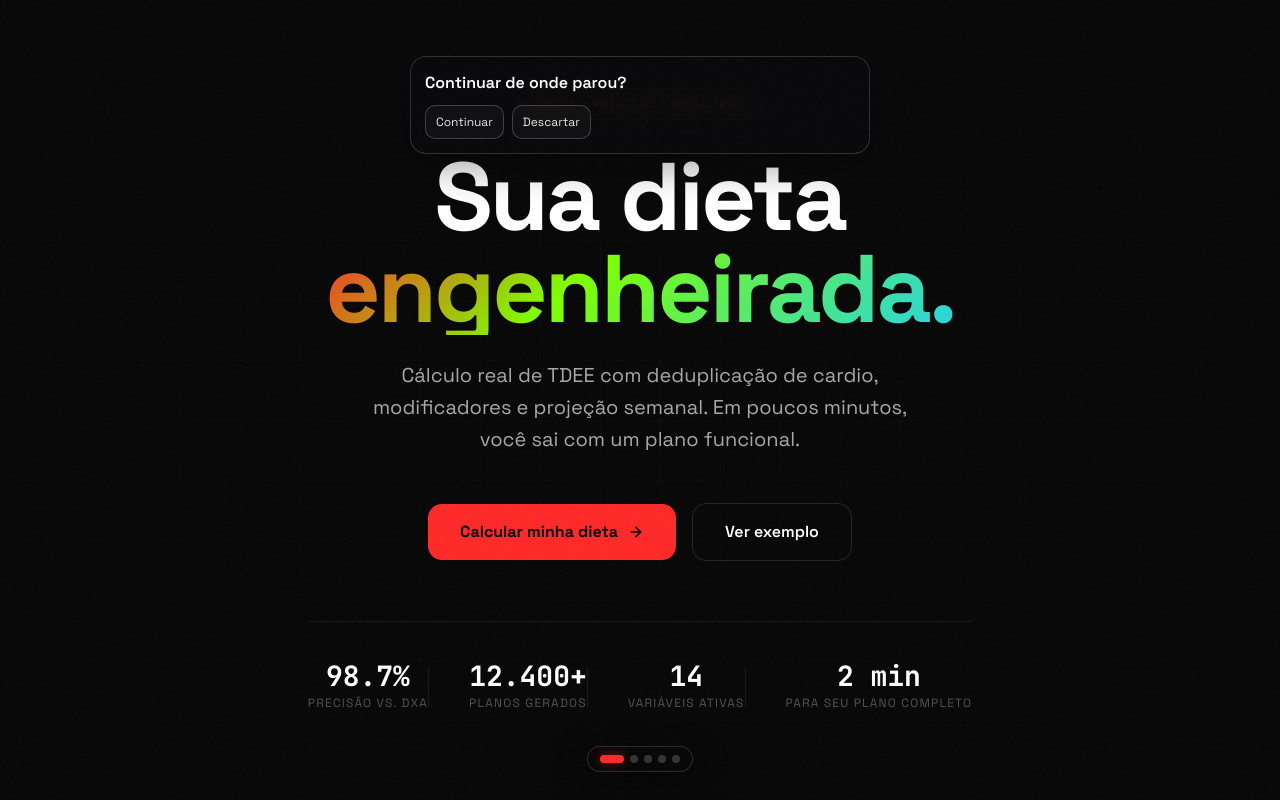
Scenario: DietForge app flow › renders chart canvas in dashboard
Click the button "Ver exemplo" at (772, 532), box top-left (692, 503), bottom-right (852, 561)
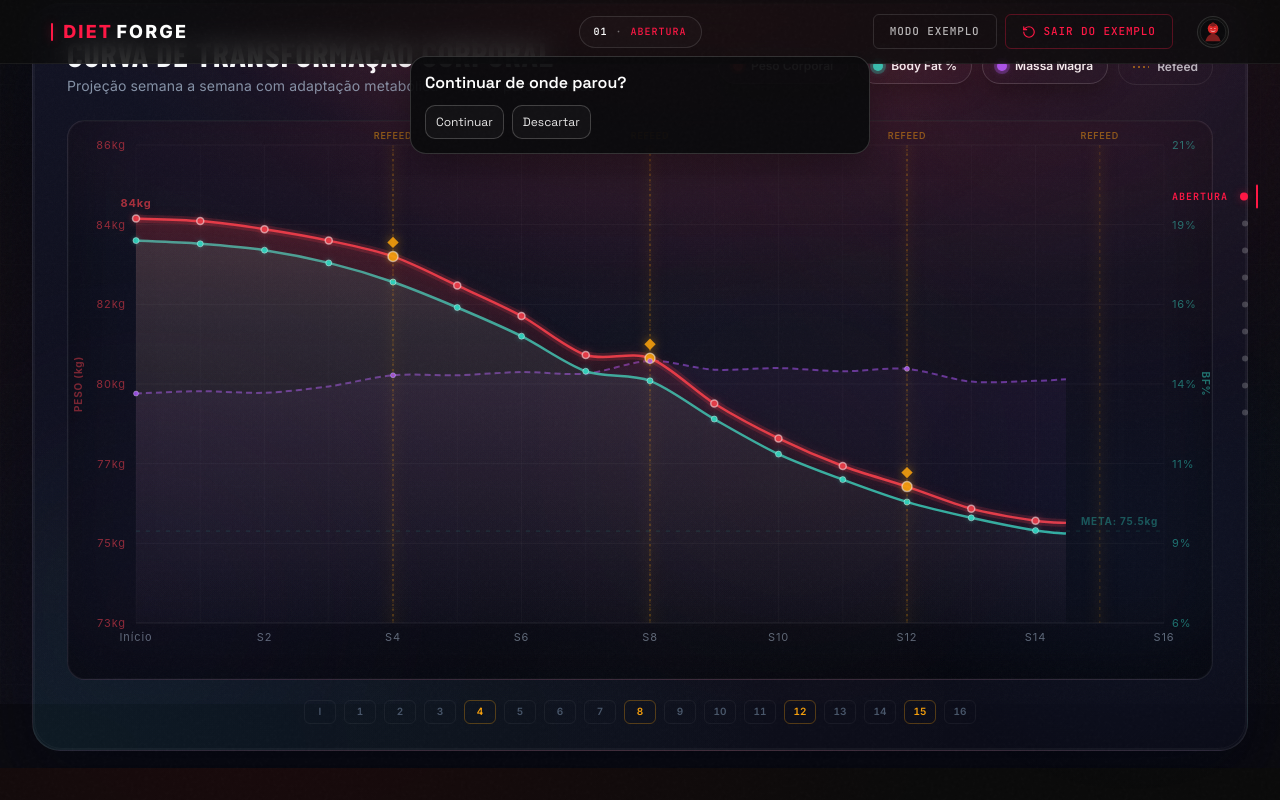
Expected: the drawing is shown
